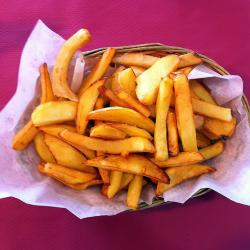fries: (17, 35, 232, 205)
